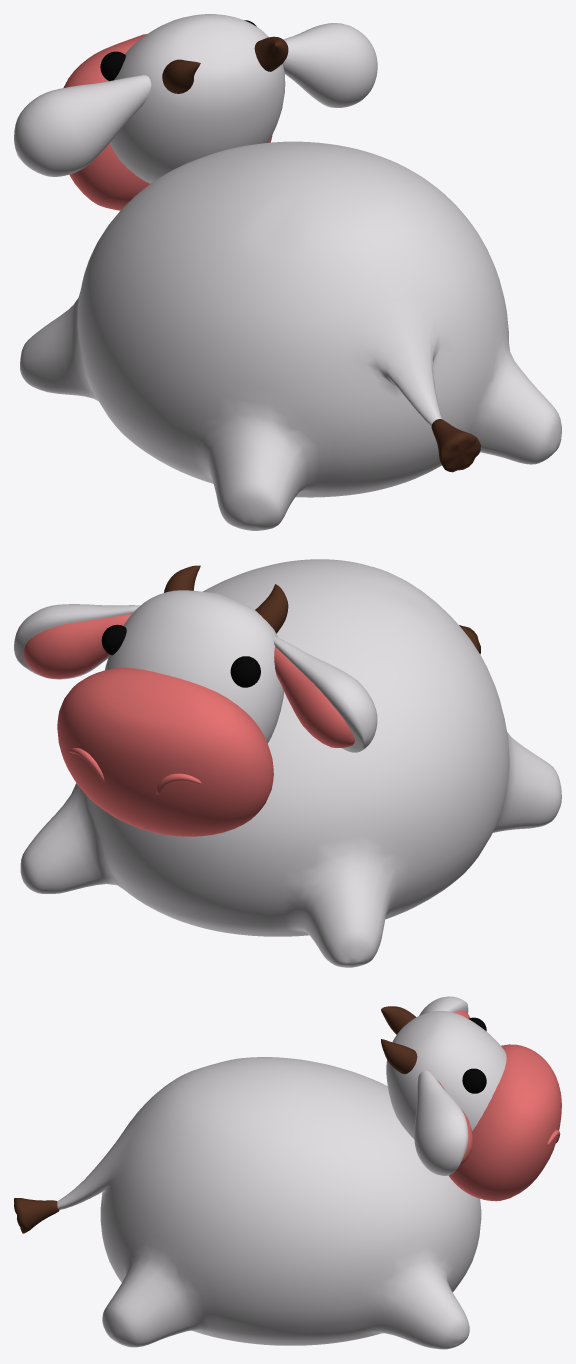
File: cow test.FBX
3 renders of one model, top to bottom at view 1: azimuth 30°, elevation 25°; view 2: azimuth 150°, elevation 25°; view 3: azimuth 270°, elevation 25°, orthographic. The views are drawn at different scales.
Visible parts, largest first — view 1: Sphere029; view 2: Sphere029; view 3: Sphere029.
Part boxes in pixels (x1,y1,x2,y2): Sphere029: (14,14,561,530); Sphere029: (14,559,561,967); Sphere029: (14,996,561,1349).
Bounding box in the file's own units: 27.42 × 25.96 × 44.47.
